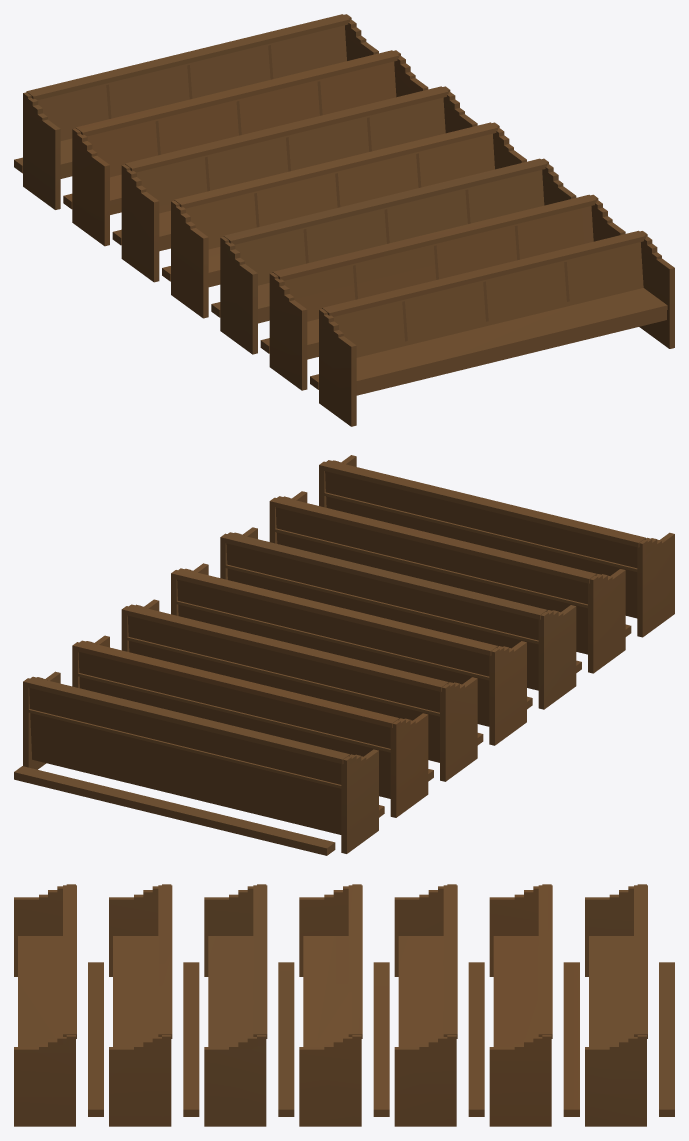
Rendered from seat.pew_rows.oak.glb.
3 renders of one model, top to bottom at view 1: azimuth 30°, elevation 25°; view 2: azimuth 150°, elevation 25°; view 3: azimuth 270°, elevation 25°, orthographic. The views are drawn at different scales.
Parts seen in each view (by area): view 1: seat_pew_rows_oak; view 2: seat_pew_rows_oak; view 3: seat_pew_rows_oak.
Part boxes in pixels (x1,y1,x2,y2): seat_pew_rows_oak: (14,14,674,426); seat_pew_rows_oak: (14,455,674,855); seat_pew_rows_oak: (14,884,674,1126).
Size of what is drawn, in the model's own units: 3.6 by 1 by 6.6.
